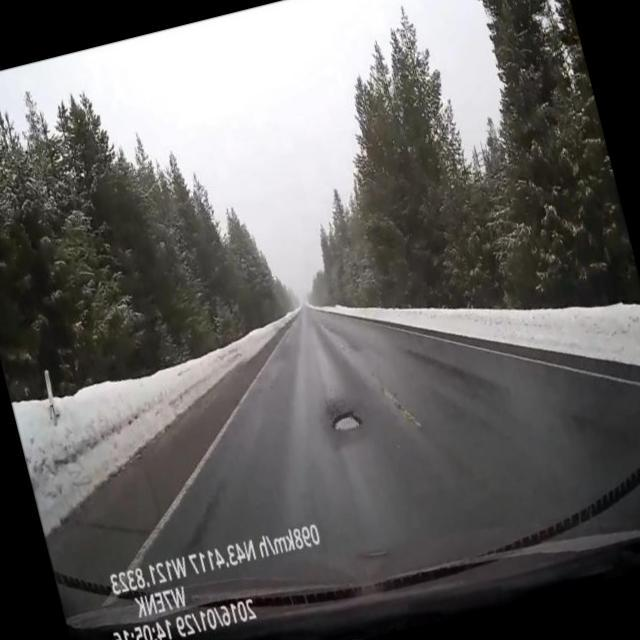Pothole: (330, 408, 363, 433)
